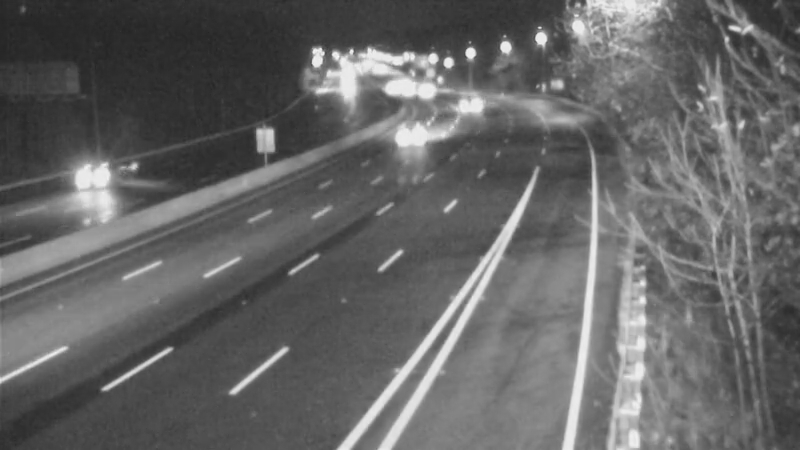vehicle: (51, 137, 131, 217), (404, 65, 454, 115), (442, 76, 492, 126), (386, 113, 436, 163)
